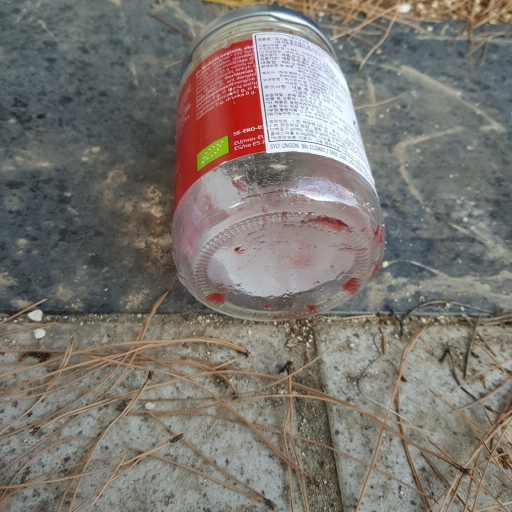Glass_5: (171, 7, 390, 322)
